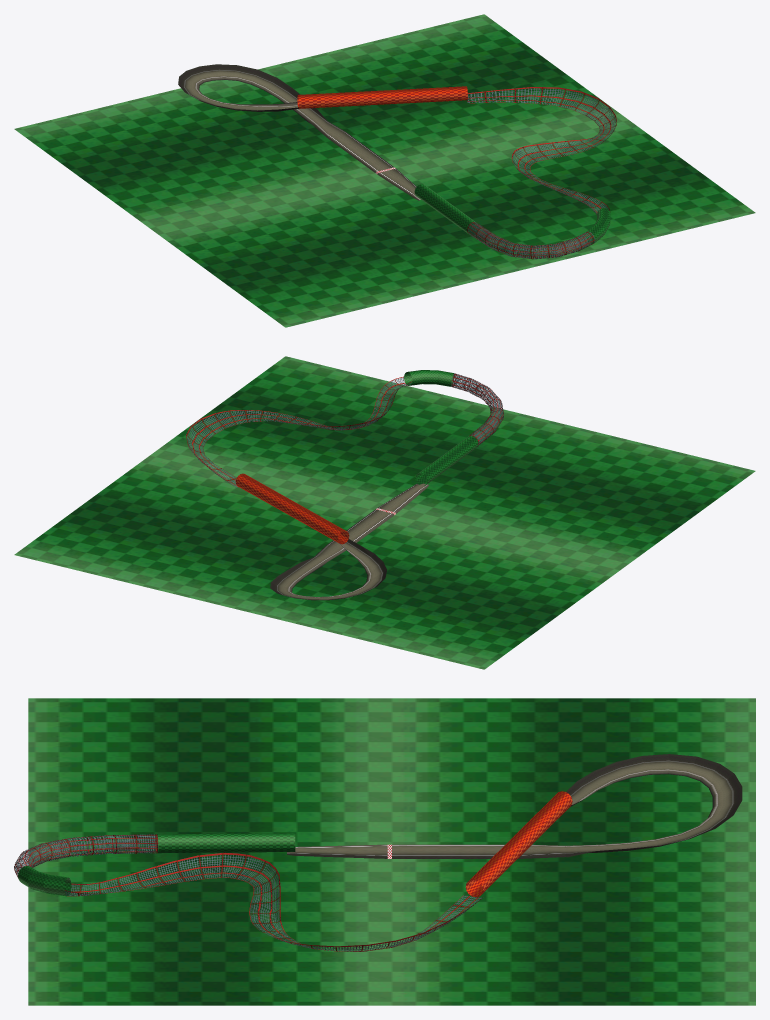
Rendered from Doko.obj.
3 renders of one model, top to bottom at view 1: azimuth 30°, elevation 25°; view 2: azimuth 150°, elevation 25°; view 3: azimuth 270°, elevation 25°, orthographic. The views are drawn at different scales.
Size of the model in its own units: 2863 by 208 by 2919.
5 materials, 5 textured.
